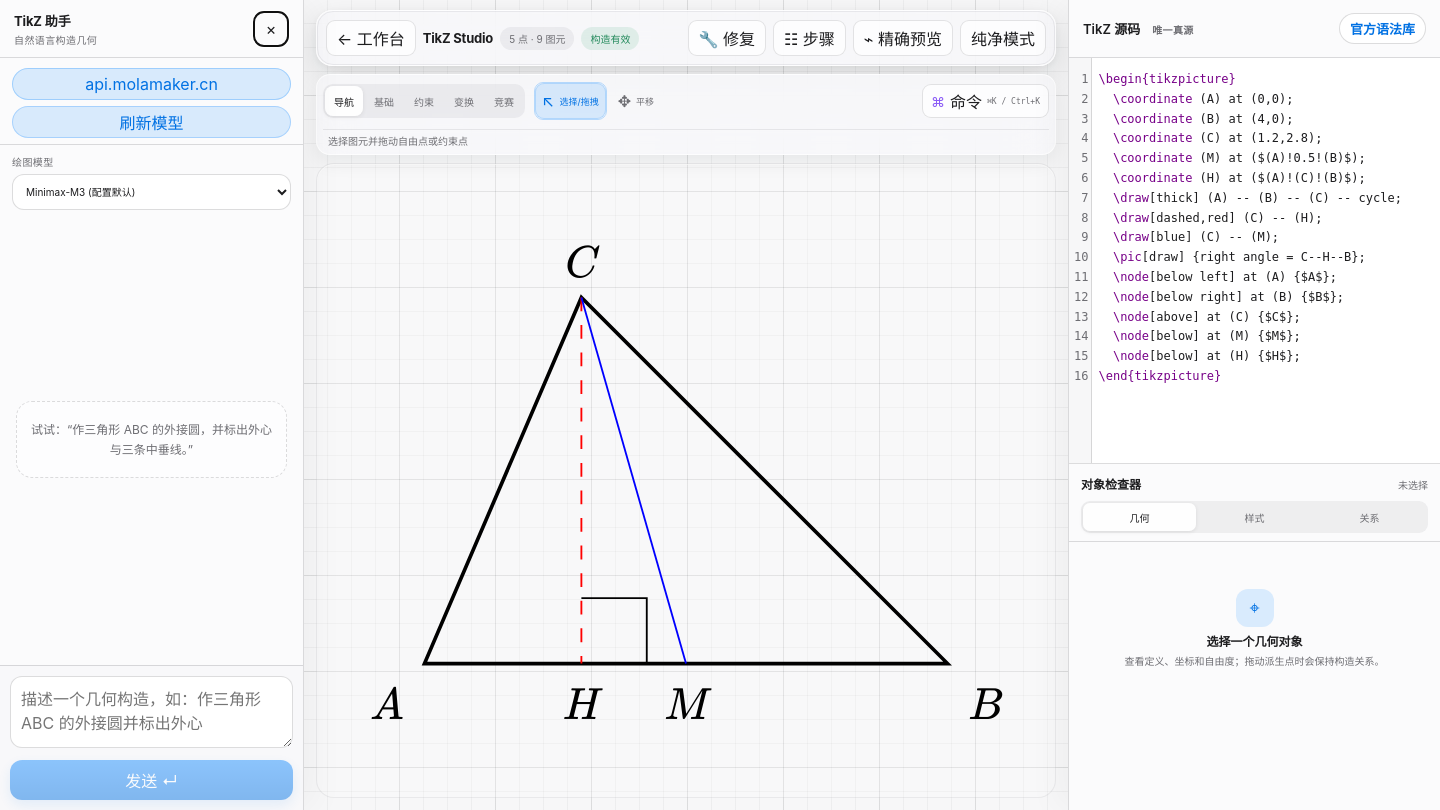
TikzStudio › keeps chat usable while the live model catalog is still pending
The image size is (1440, 810).
Type "解释当前图形" into the text box named "几何构造描述". click: (152, 712)
box: [10, 676, 293, 748]
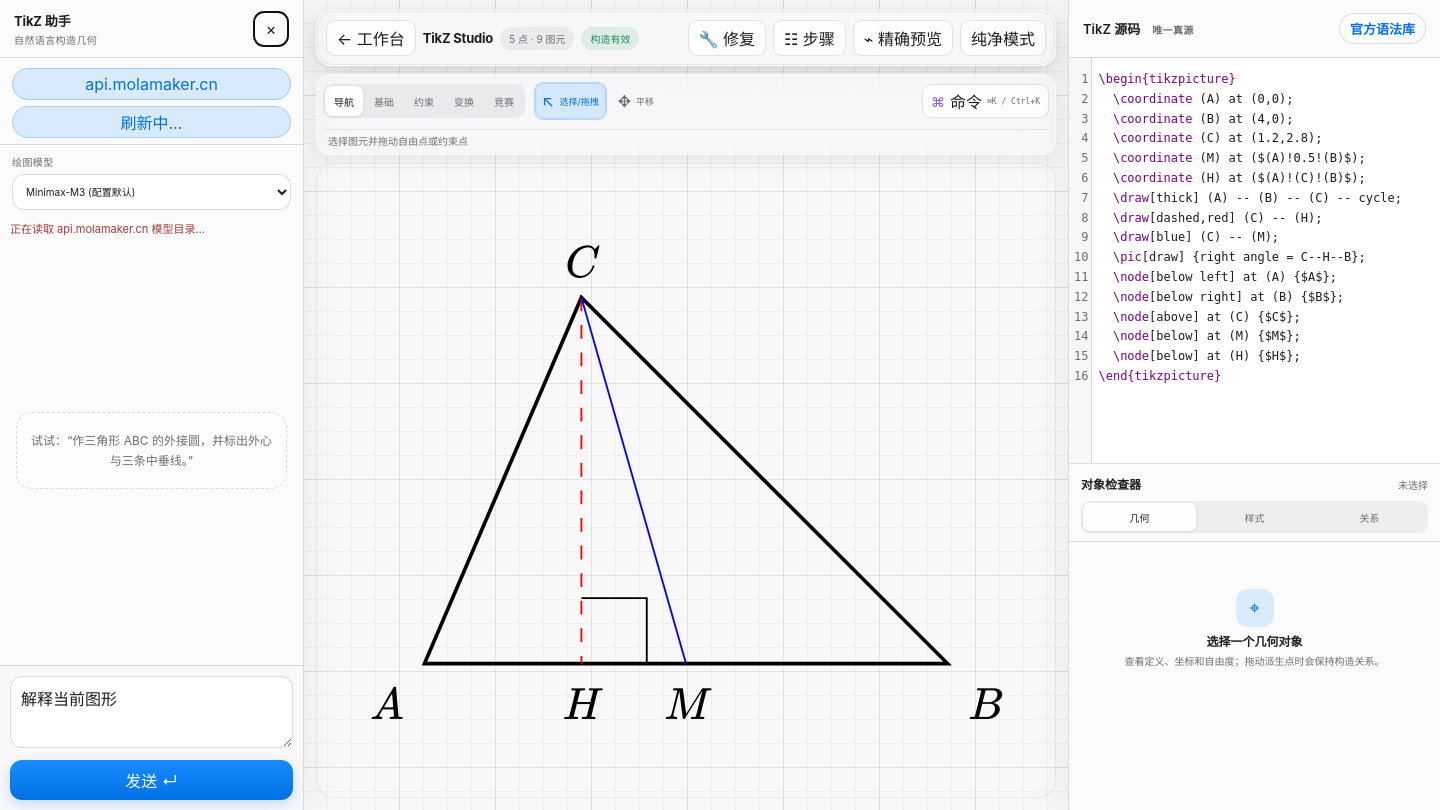
Result: the button "发送 ↵" is enabled at [10, 760, 293, 800]
Result: the text "正在读取 api.molamaker.cn 模型目录…" is shown at [10, 222, 205, 236]
